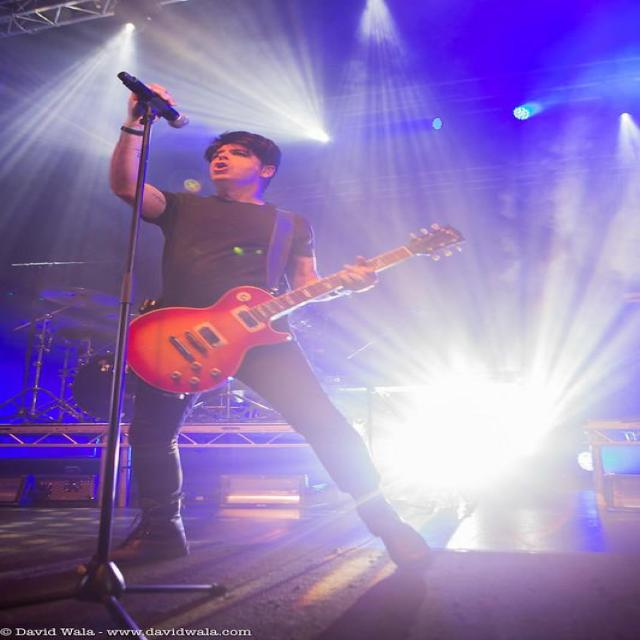guitar: (128, 273, 342, 393)
